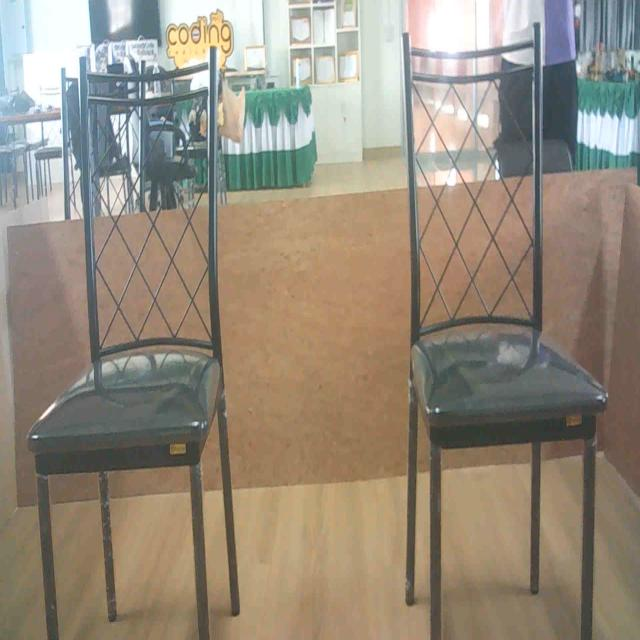empty: (397, 45, 614, 448), (28, 62, 216, 481)
